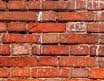brick: (58, 56, 98, 67), (33, 67, 70, 78), (27, 22, 65, 32), (1, 56, 38, 66), (1, 33, 39, 42), (1, 11, 38, 20), (59, 34, 98, 42), (41, 44, 69, 55), (12, 44, 39, 55), (58, 12, 91, 21), (43, 1, 75, 9), (10, 66, 31, 77), (69, 44, 89, 55), (7, 22, 25, 33), (67, 22, 86, 32), (71, 68, 89, 78), (38, 56, 58, 65), (89, 68, 104, 79), (88, 23, 104, 33), (41, 34, 58, 43), (24, 1, 41, 9), (41, 11, 55, 20), (1, 43, 11, 55), (8, 1, 23, 8), (1, 67, 9, 78)
